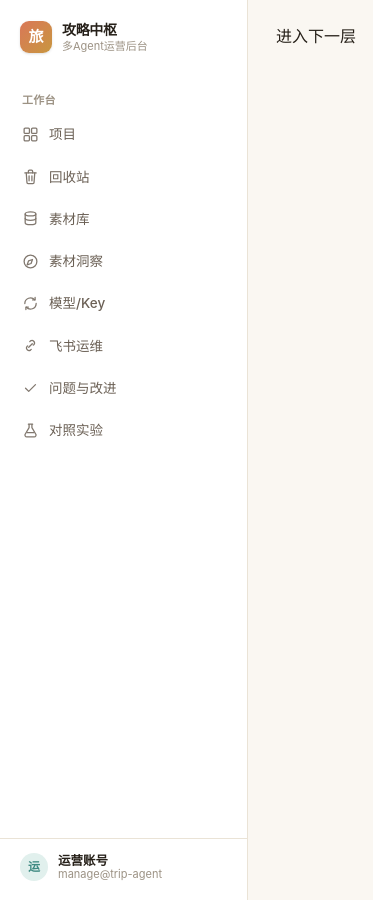
it: Layout route scrolling › resets the viewport when navigating to another page
Step 1. Click the link "进入下一层" → (316, 36), box [276,26,356,46]
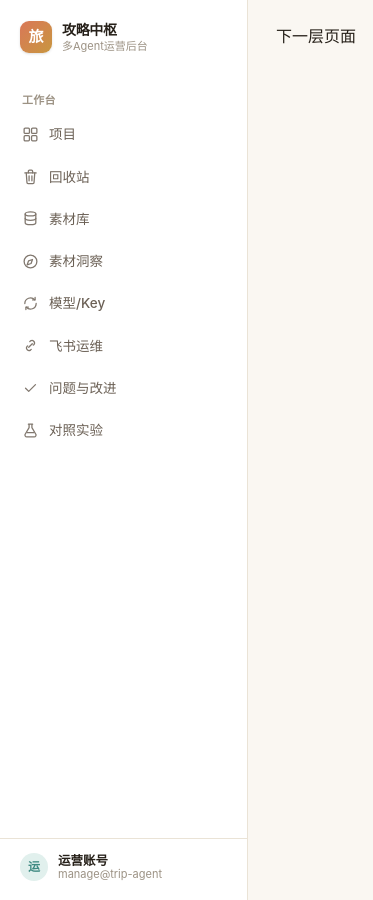
Result: the text "下一层页面" is shown at [276,26,356,46]
